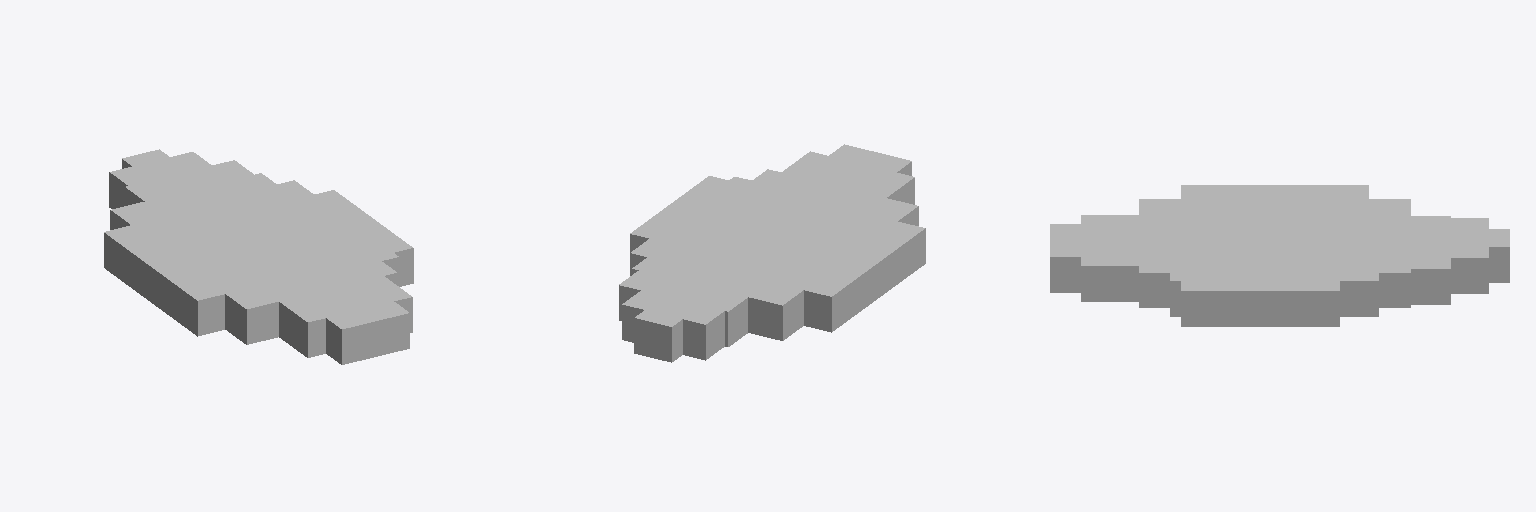
Rendered from CloudV9.obj.
3 renders of one model, left to right at view 1: azimuth 30°, elevation 25°; view 2: azimuth 150°, elevation 25°; view 3: azimuth 270°, elevation 25°, orthographic.
Parts seen in each view (by area): view 1: pCube9; view 2: pCube9; view 3: pCube9.
Part boxes in pixels (x1,y1,x2,y2): pCube9: (104, 149, 413, 364); pCube9: (619, 144, 925, 362); pCube9: (1050, 185, 1509, 326).
Bounding box in the file's own units: 3.17 × 0.5 × 5.85.